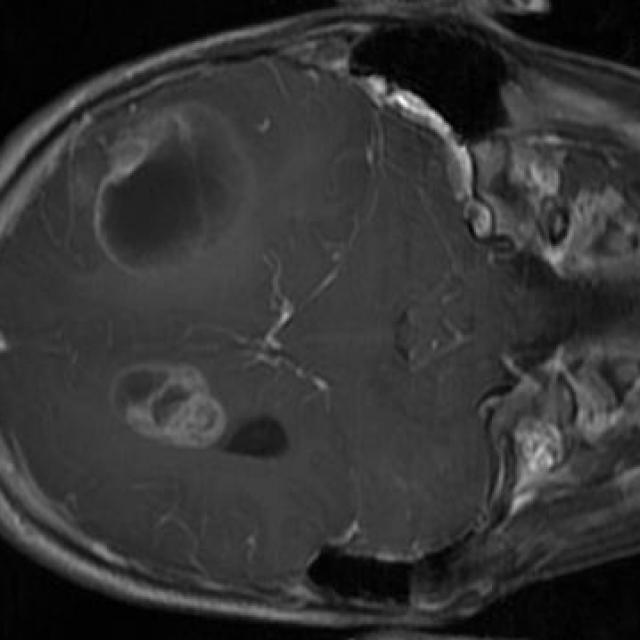glioma: (93, 105, 253, 292)
